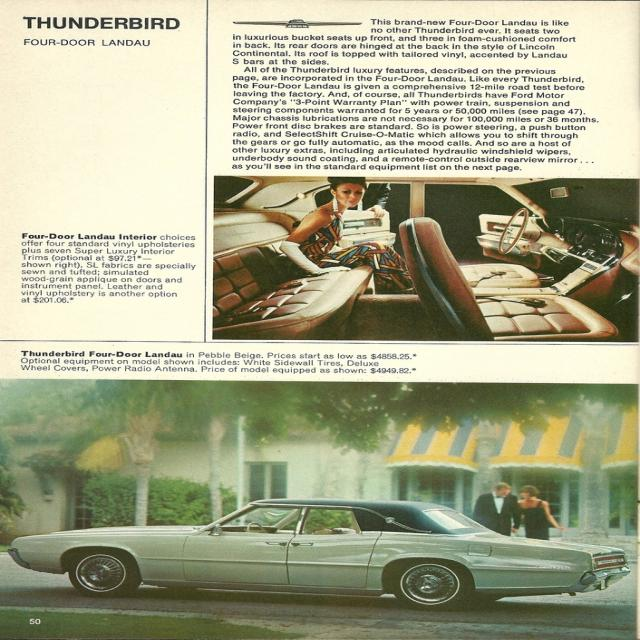car: (0, 505, 611, 613)
